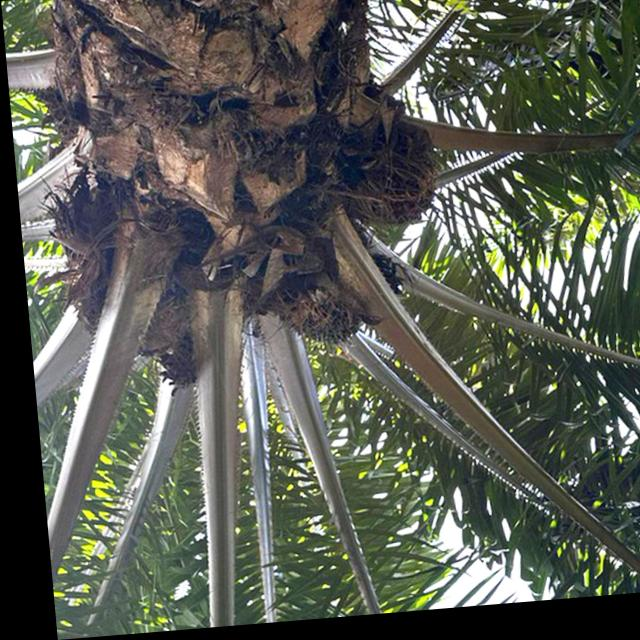unripe: (262, 243, 372, 361)
